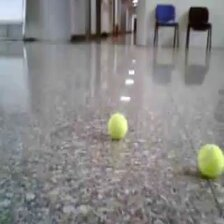tennis: (197, 144, 224, 177), (107, 112, 128, 138)
